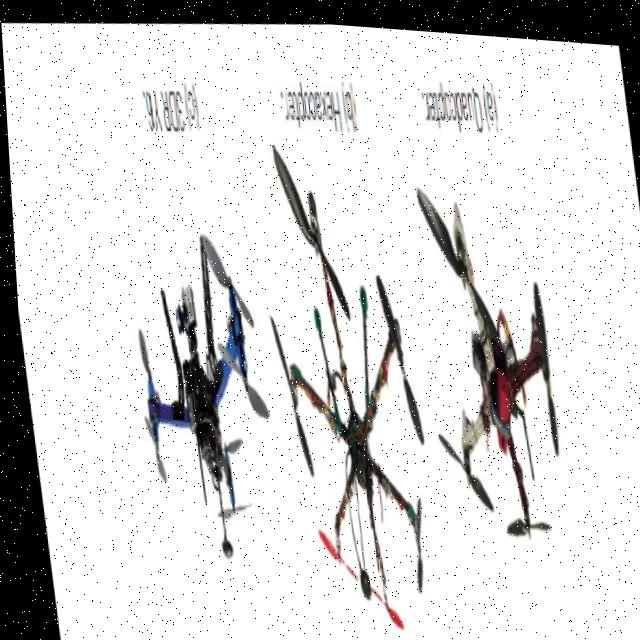drones: (239, 97, 447, 640), (101, 157, 292, 616), (392, 122, 580, 583)
